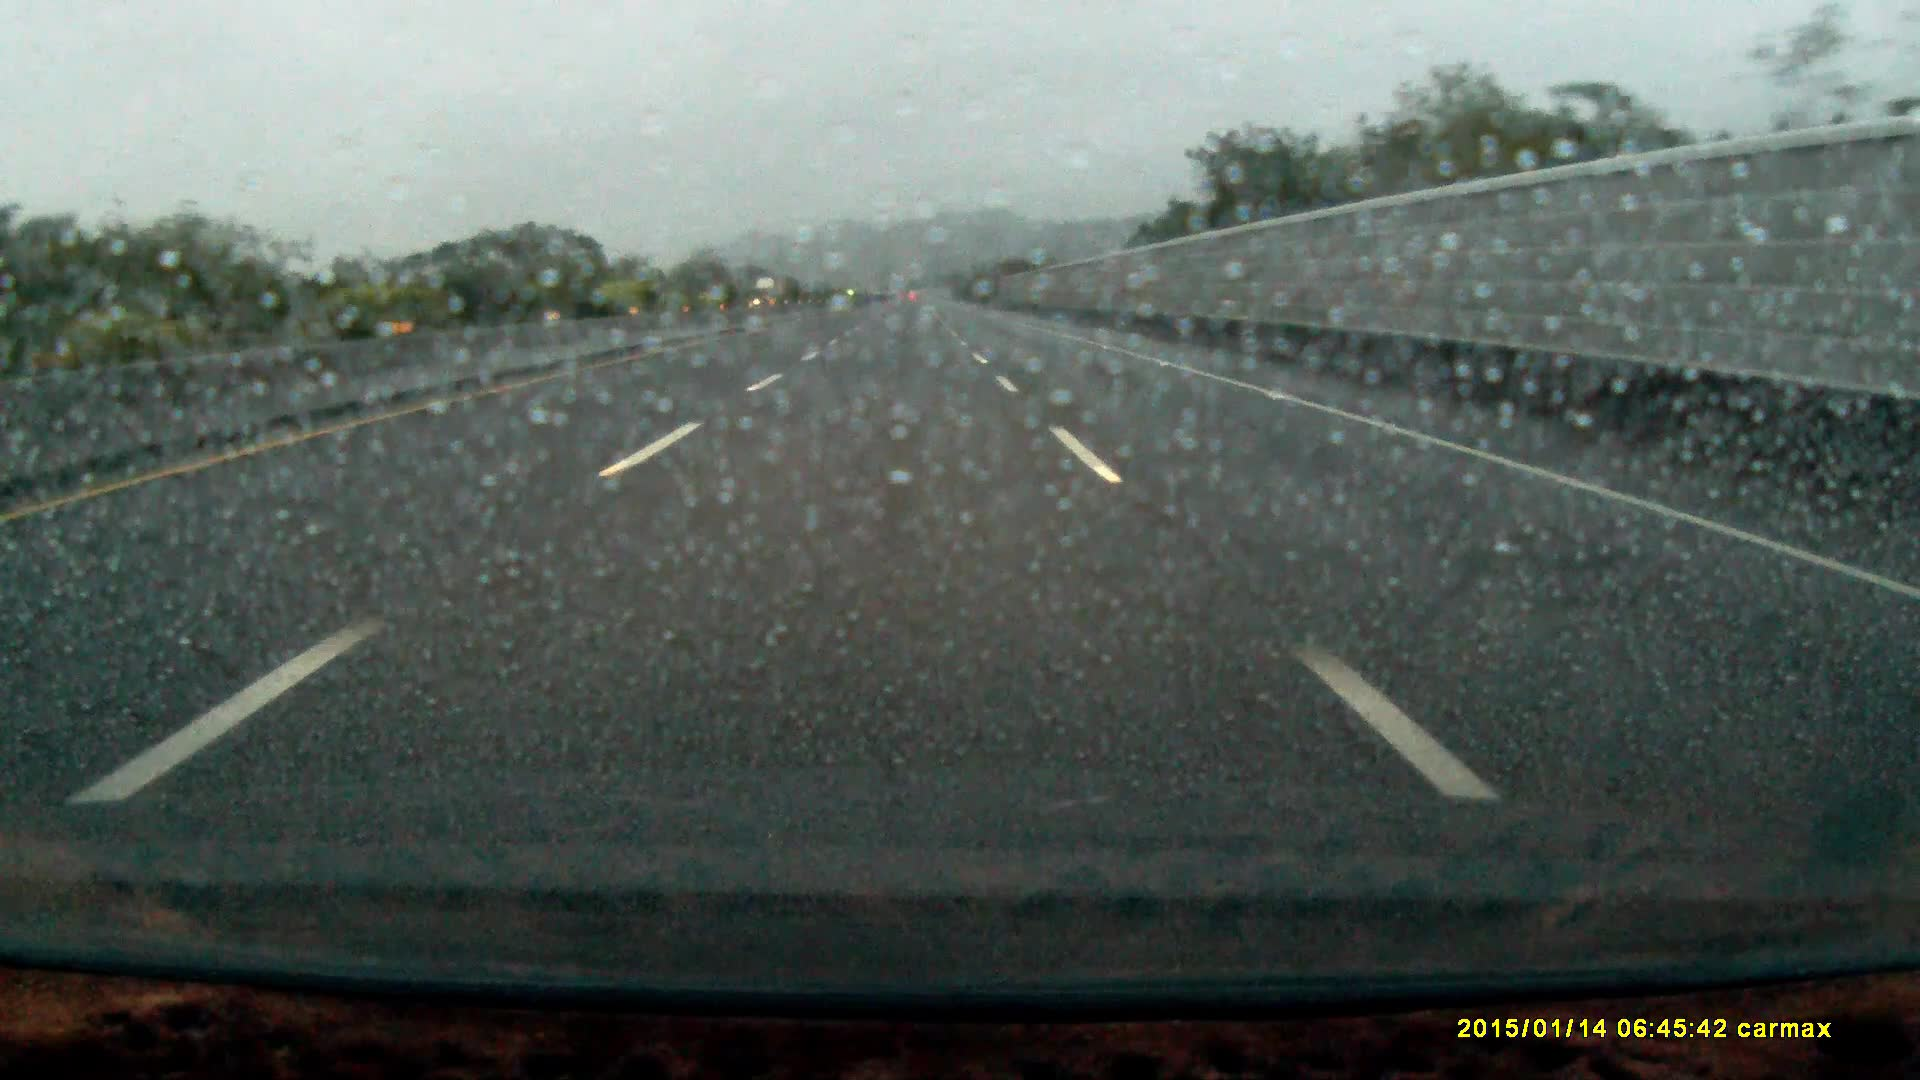vehicle: (754, 277, 783, 307)
